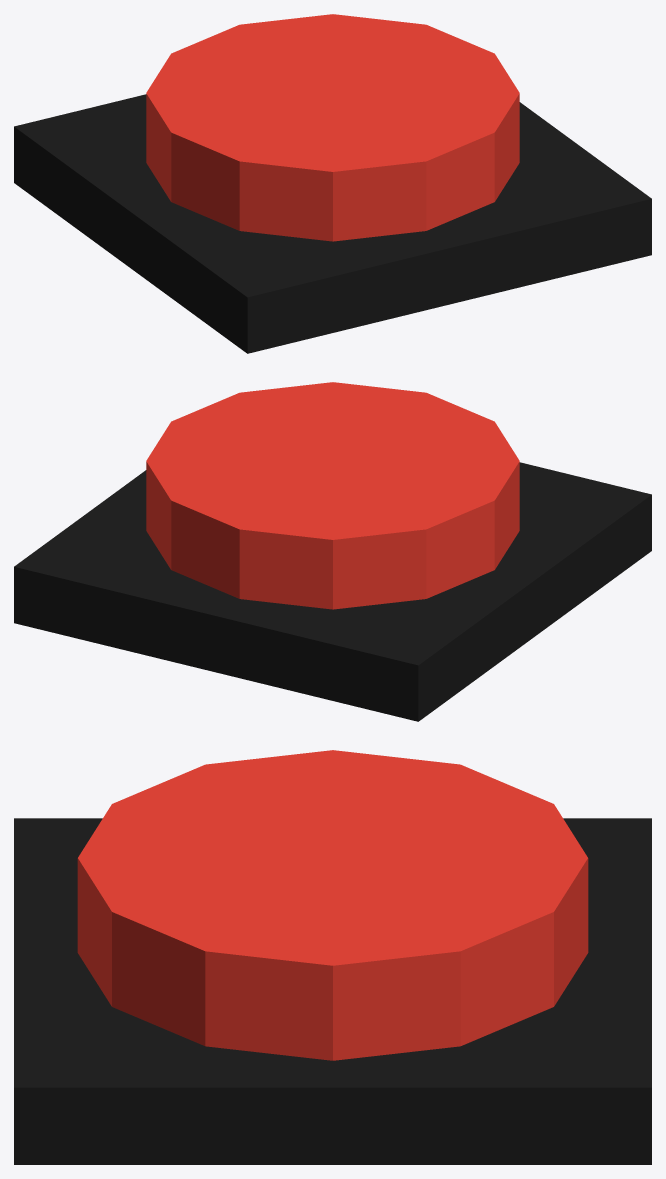
The model's file is Button by Syl - aPo-I1sQi6a.glb.
3 renders of one model, top to bottom at view 1: azimuth 30°, elevation 25°; view 2: azimuth 150°, elevation 25°; view 3: azimuth 270°, elevation 25°, orthographic. The views are drawn at different scales.
Parts seen in each view (by area): view 1: group991854119, group391364438; view 2: group991854119, group391364438; view 3: group991854119, group391364438.
Boxes of the visible parts, x1=… form: group991854119: x1=146, y1=14, x2=519, y2=241; group391364438: x1=14, y1=94, x2=651, y2=353; group991854119: x1=146, y1=382, x2=519, y2=609; group391364438: x1=14, y1=462, x2=651, y2=721; group991854119: x1=77, y1=750, x2=588, y2=1060; group391364438: x1=14, y1=818, x2=651, y2=1164.
Size of the model in its own units: 0.15 by 0.0447 by 0.15.
